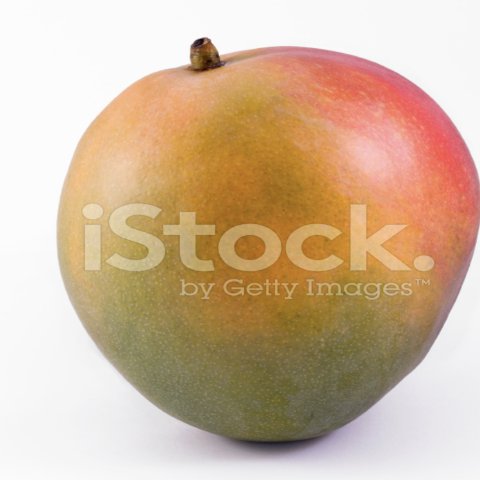mango: (27, 19, 480, 476)
